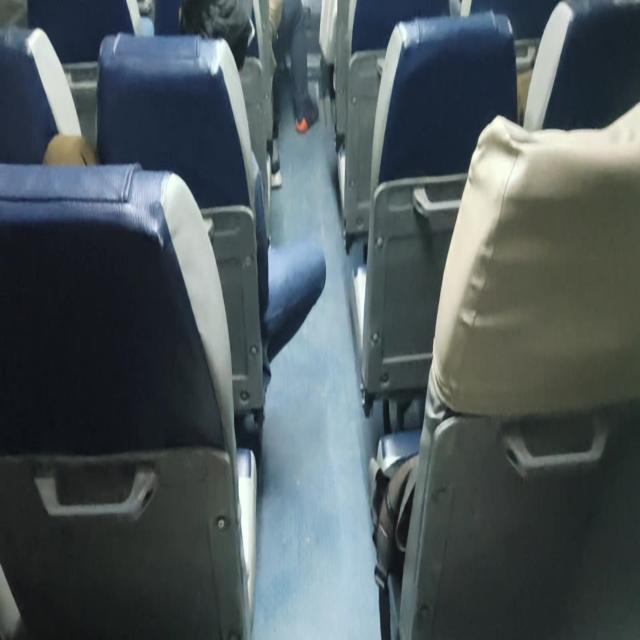person: (172, 0, 246, 74)
